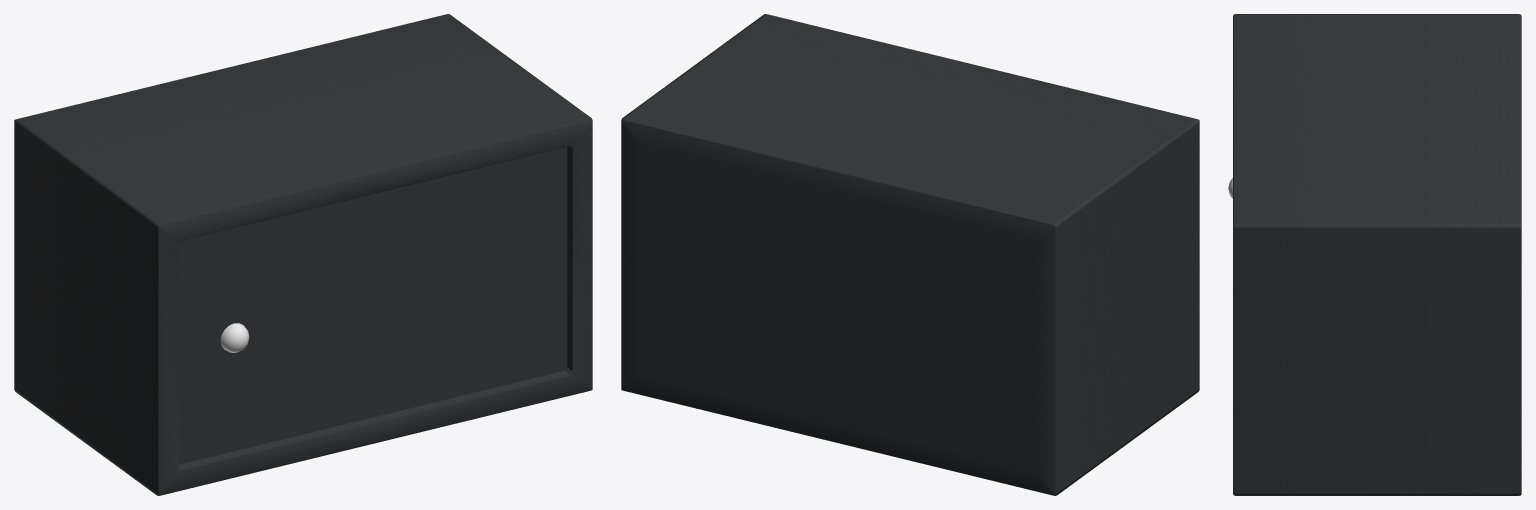
File: ReverseSafe.fbx
3 views of the same model, side by side, from view 1: azimuth 30°, elevation 25°; view 2: azimuth 150°, elevation 25°; view 3: azimuth 270°, elevation 25° (orthographic).
Visible parts, largest first — view 1: SafeBody00, SafeDoor00, SafeLED00; view 2: SafeBody00; view 3: SafeBody00.
Boxes of the visible parts, x1,y1,x2,y2 form: SafeBody00: (14, 14, 592, 495); SafeDoor00: (178, 147, 567, 464); SafeLED00: (220, 323, 249, 352); SafeBody00: (621, 14, 1199, 495); SafeBody00: (1233, 14, 1521, 495).
Size of the model in its own units: 190 by 113 by 111.
1 material, 1 textured.
